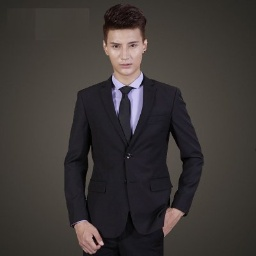face: (102, 3, 148, 78)
